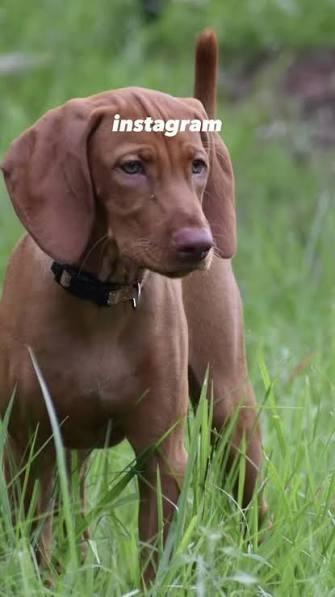puppy-dog: (0, 28, 269, 578)
